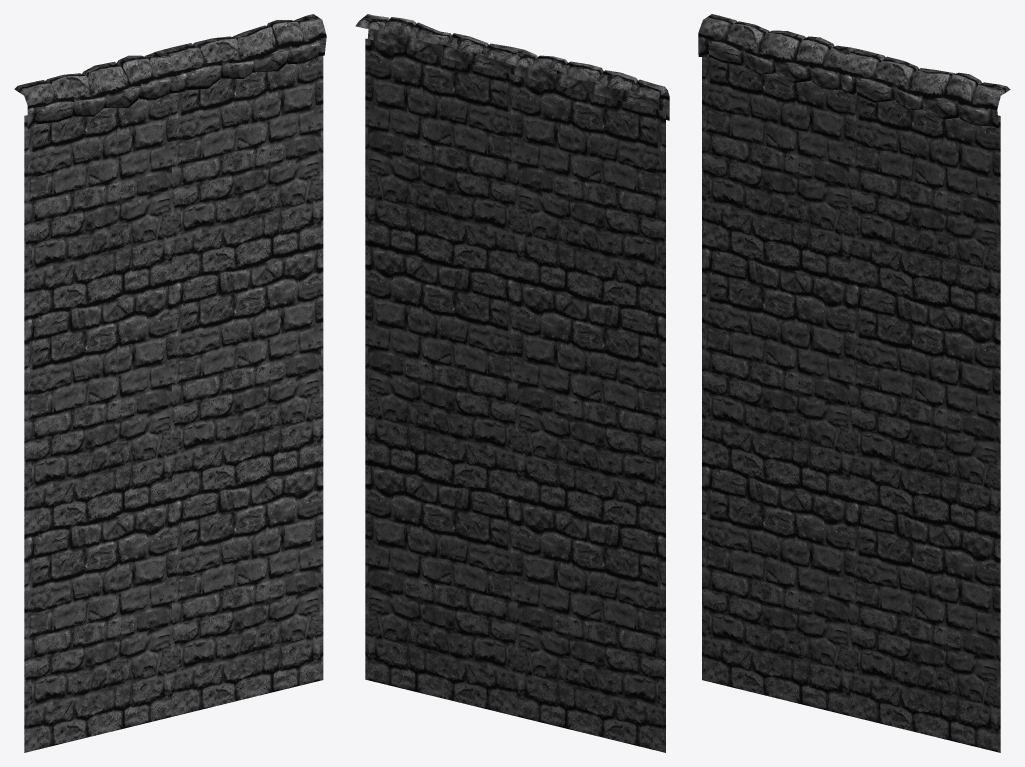
Rendered from StreetDeko_Wall.FBX.
3 views of the same model, side by side, from view 1: azimuth 30°, elevation 25°; view 2: azimuth 150°, elevation 25°; view 3: azimuth 330°, elevation 25° (orthographic).
Visible parts, largest first — view 1: Street_DekoWall; view 2: Street_DekoWall; view 3: Street_DekoWall.
Part boxes in pixels (x1,y1,x2,y2): Street_DekoWall: [14, 14, 326, 752]; Street_DekoWall: [355, 14, 669, 752]; Street_DekoWall: [698, 14, 1010, 752].
Size of the model in its own units: 400 by 852 by 42.07.
